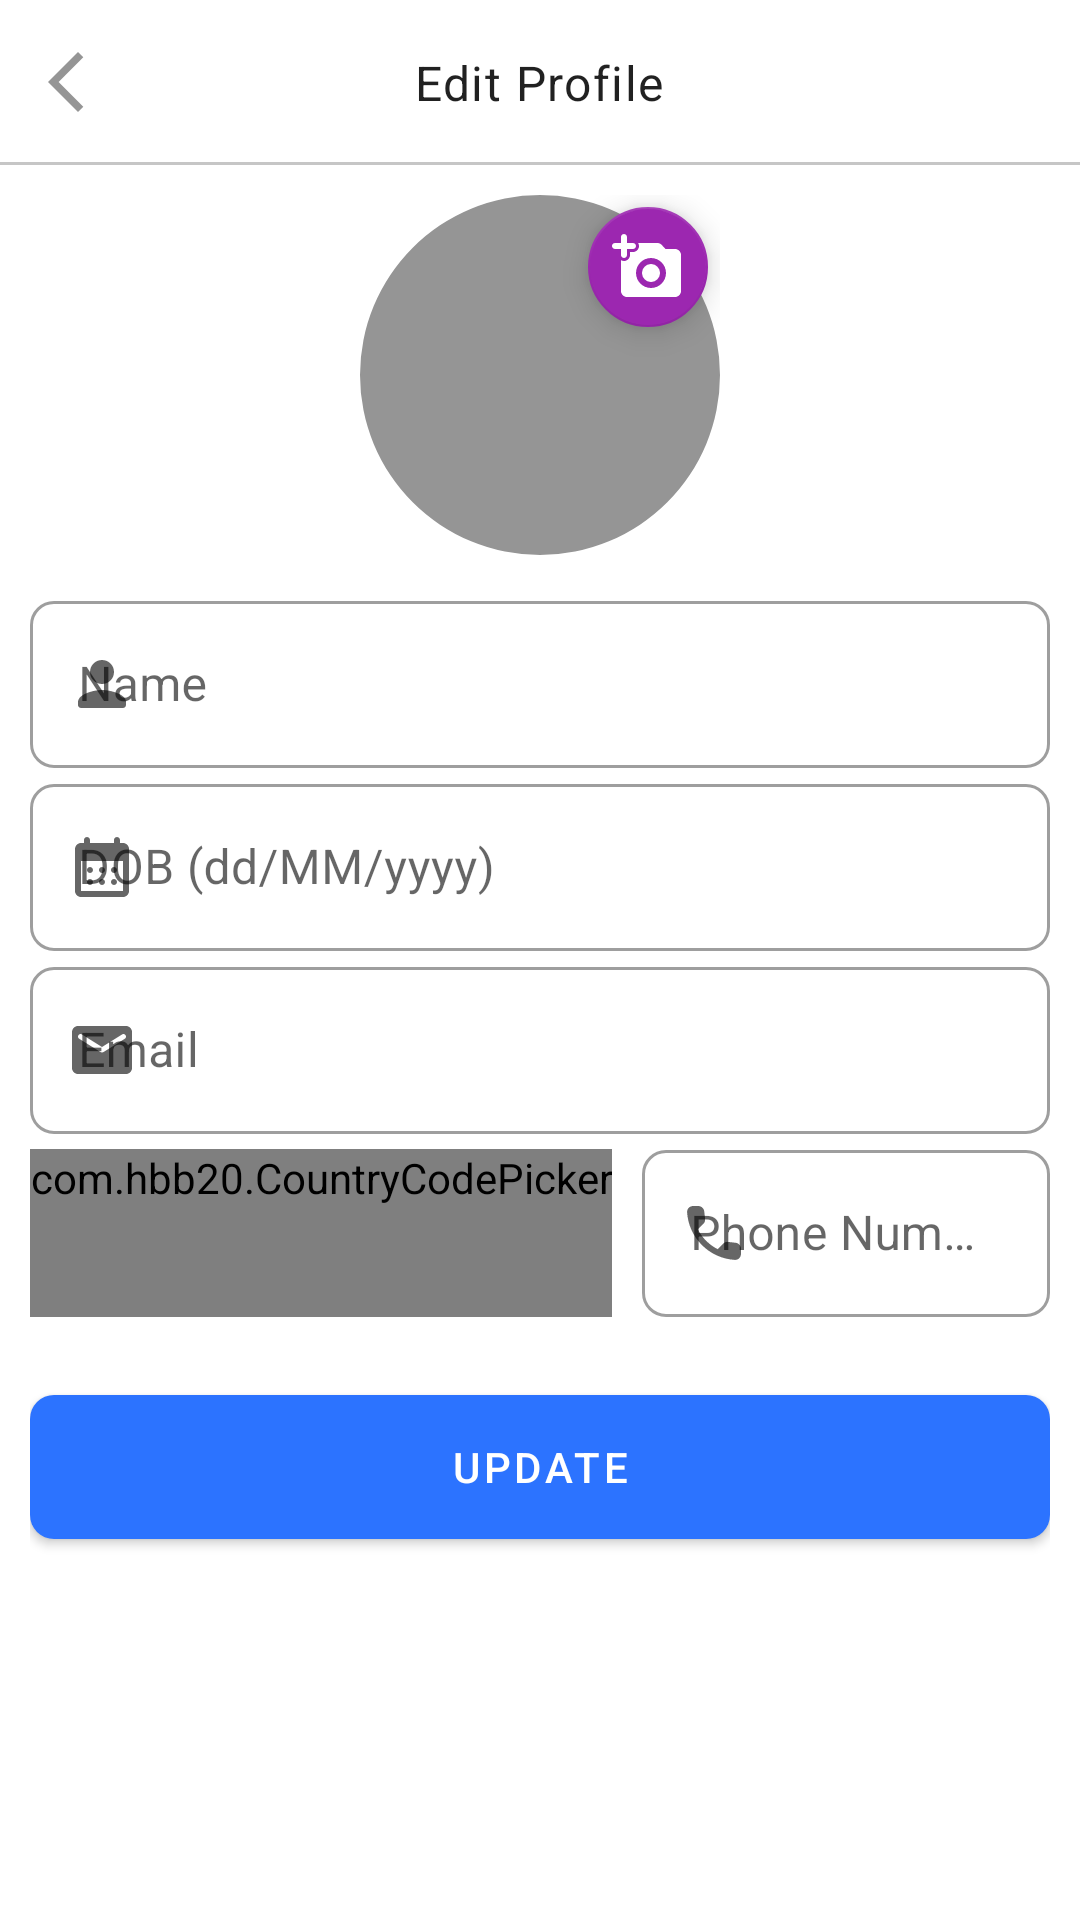

Screen size 1080 x 1920. Icon name, then its center in pixels as (x=x, y=y):
add photo: (x=648, y=267)
back: (x=65, y=82)
